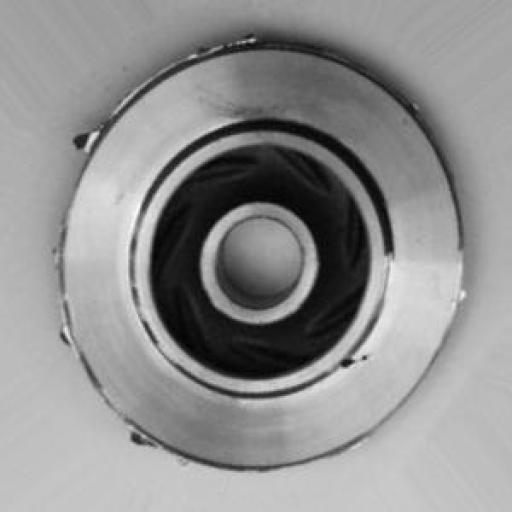defect: (40, 30, 478, 476)
